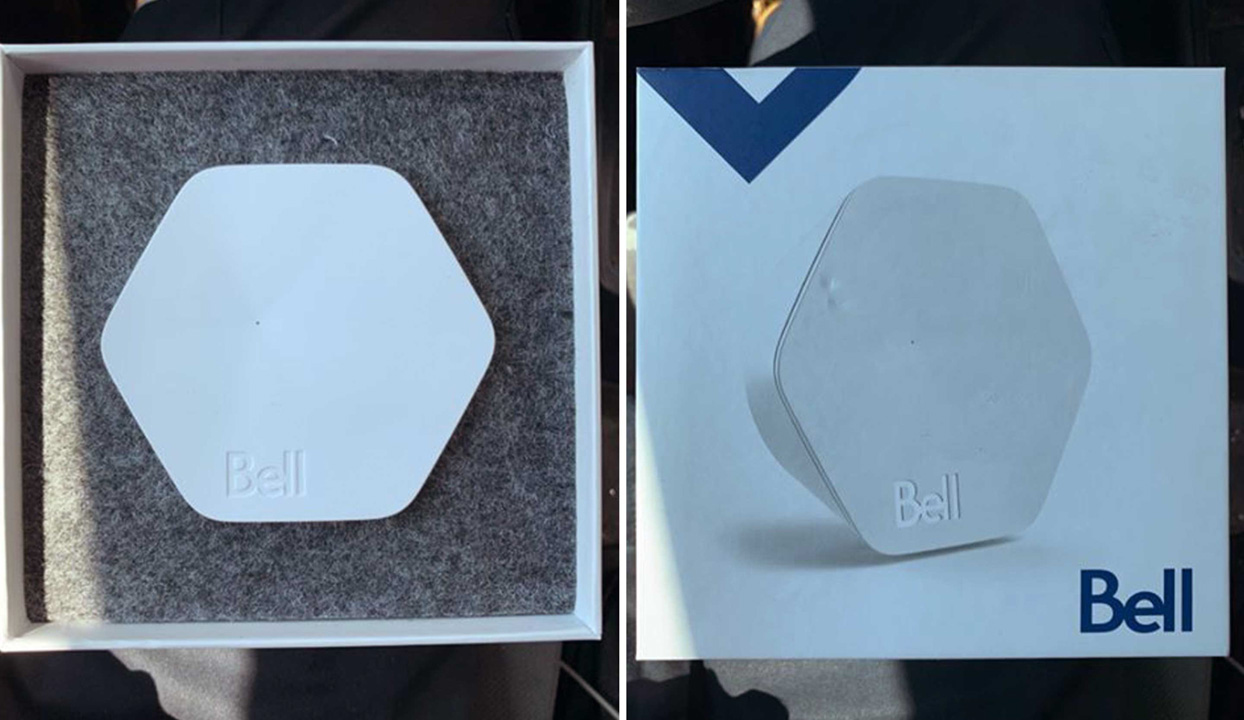pod: (90, 154, 508, 530), (741, 167, 1102, 563)
